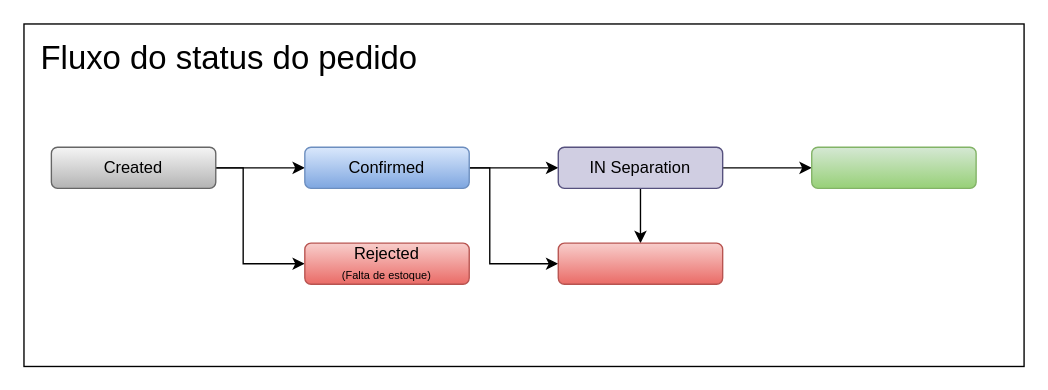
Image size: 1048x390. Some labels were removed from this diagram. The centre of each missing label's shape, as x and y in pixels:
"Cancelled (Ação do cliente)" goes at point 640,263.
"Finished (Pronto para entrega/retirada)" goes at point 893,167.
